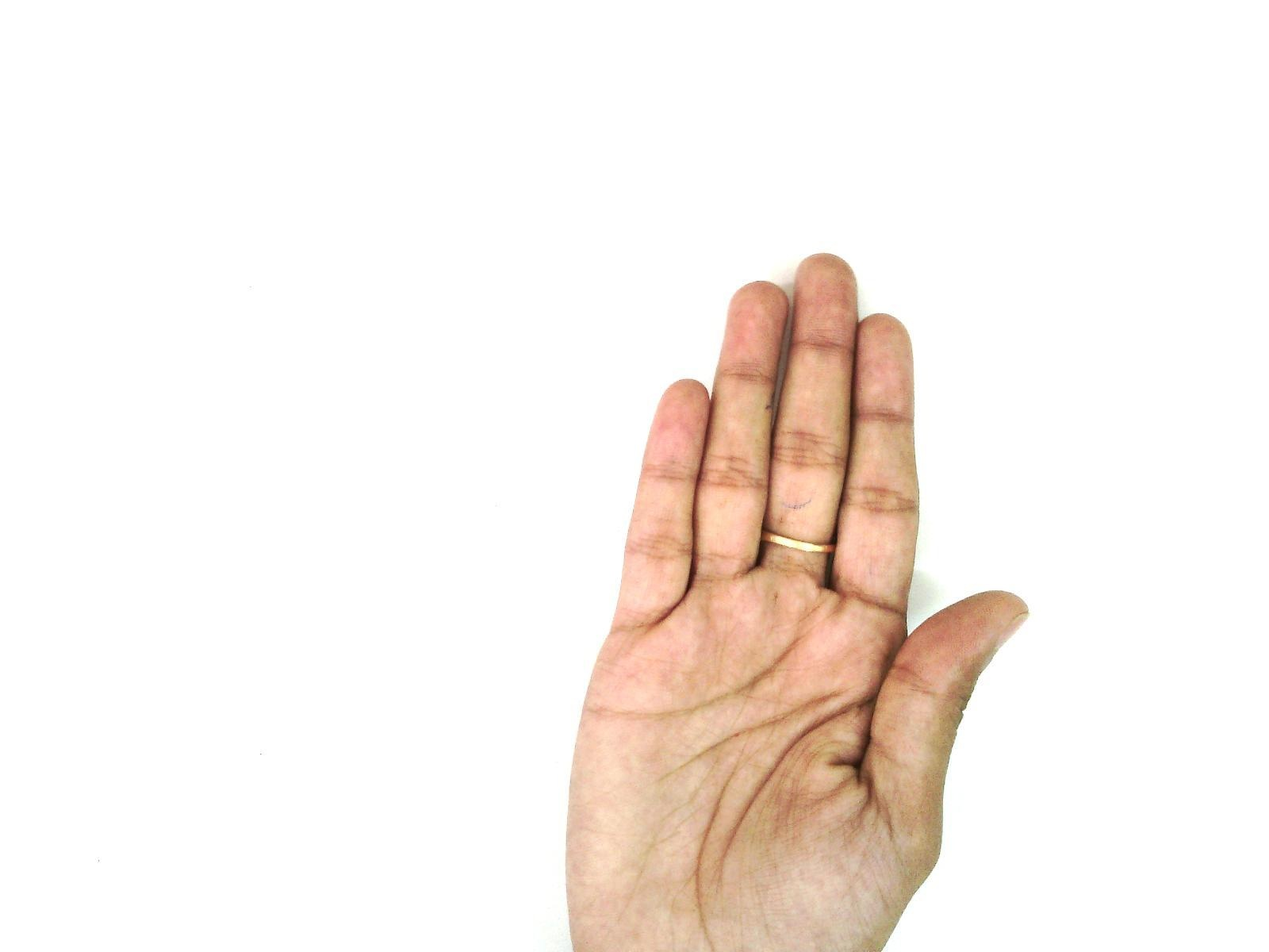open_palm: (562, 252, 1032, 951)
